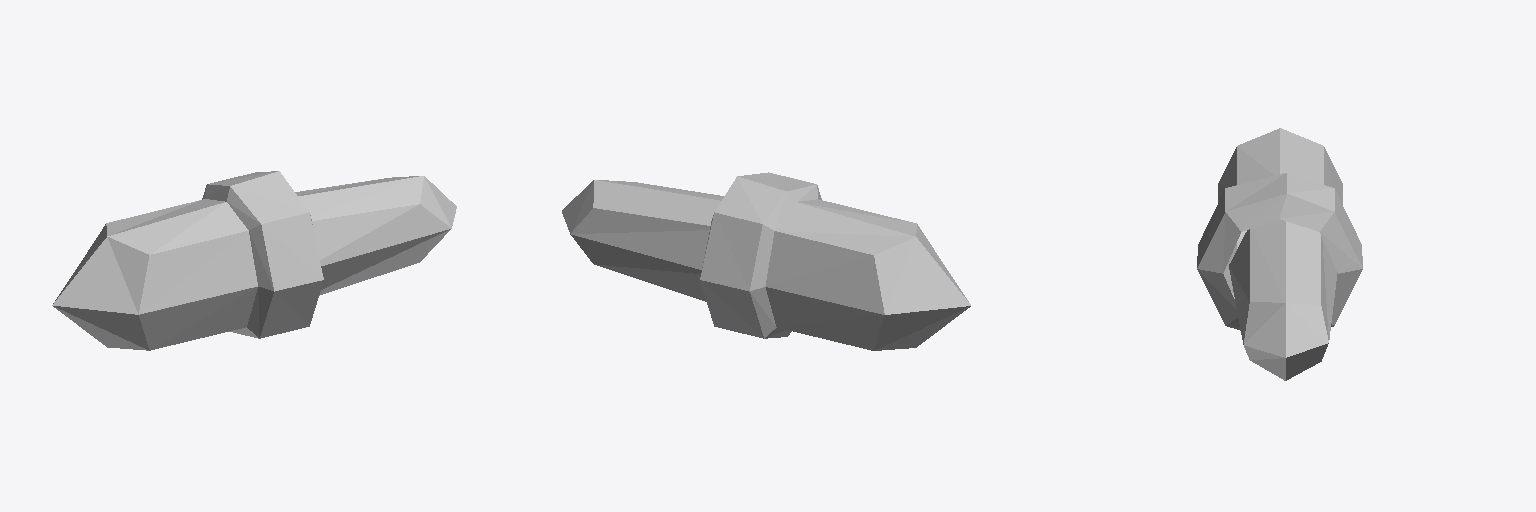
File: upArmLeft.obj
3 renders of one model, left to right at view 1: azimuth 30°, elevation 25°; view 2: azimuth 150°, elevation 25°; view 3: azimuth 270°, elevation 25°, orthographic.
Parts seen in each view (by area): view 1: polySurface10 polySurface5 pCube8, polySurface5 pCube8 polySurface9; view 2: polySurface10 polySurface5 pCube8, polySurface5 pCube8 polySurface9; view 3: polySurface10 polySurface5 pCube8, polySurface5 pCube8 polySurface9.
Boxes of the visible parts, x1=… form: polySurface10 polySurface5 pCube8: x1=52, y1=171, x2=323, y2=350; polySurface5 pCube8 polySurface9: x1=295, y1=176, x2=456, y2=295; polySurface10 polySurface5 pCube8: x1=700, y1=172, x2=970, y2=350; polySurface5 pCube8 polySurface9: x1=562, y1=180, x2=723, y2=301; polySurface10 polySurface5 pCube8: x1=1197, y1=128, x2=1362, y2=330; polySurface5 pCube8 polySurface9: x1=1229, y1=219, x2=1337, y2=380.
Size of the model in its own units: 11.09 by 3.94 by 3.91.